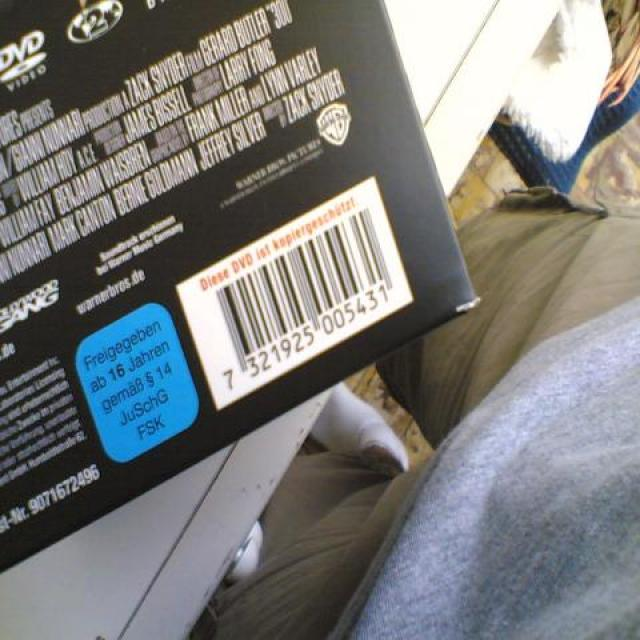Barcode: (176, 175, 416, 409)
